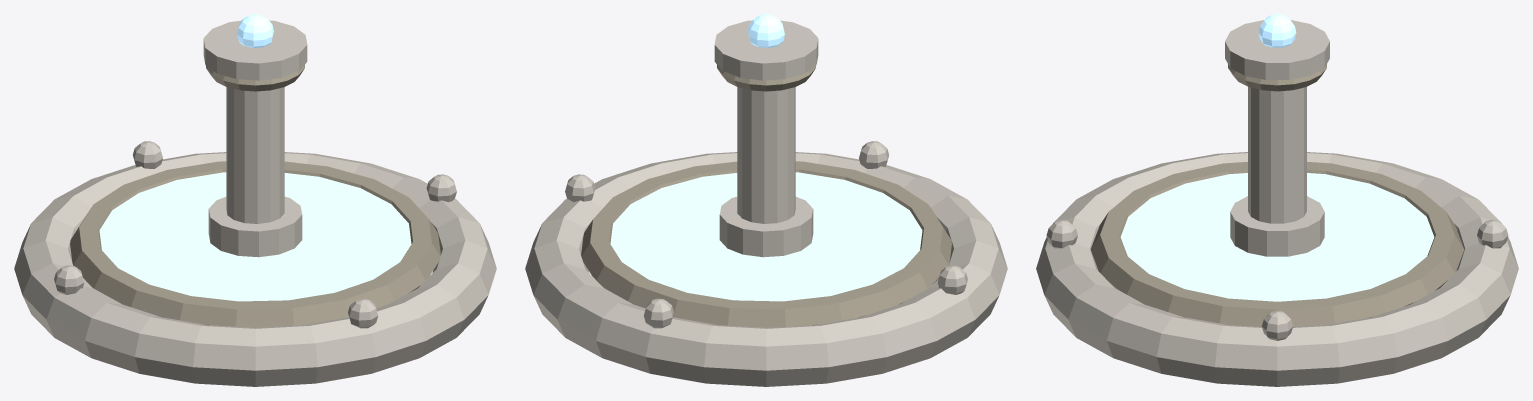
The model's file is VillageFountain.fbx.
The picture shows the model from 3 angles, left to right: view 1: azimuth 30°, elevation 25°; view 2: azimuth 150°, elevation 25°; view 3: azimuth 270°, elevation 25°; orthographic projection.
Visible parts, largest first — view 1: VillageFountain; view 2: VillageFountain; view 3: VillageFountain.
Part boxes in pixels (x1,y1,x2,y2): VillageFountain: (14, 14, 496, 386); VillageFountain: (525, 14, 1007, 386); VillageFountain: (1036, 14, 1518, 386).
Bounding box in the file's own units: 4.6 × 2.96 × 4.6.
